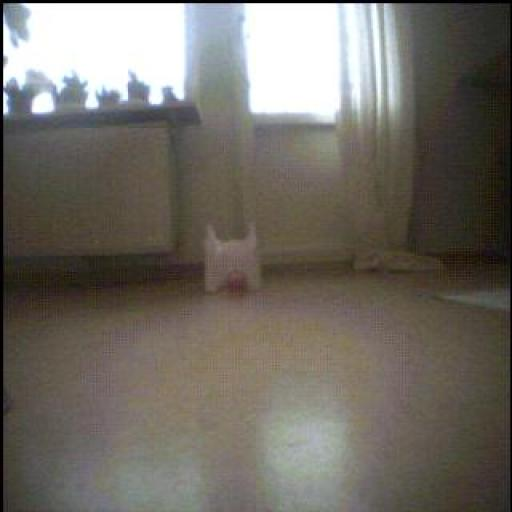Basket: (221, 268, 254, 300)
